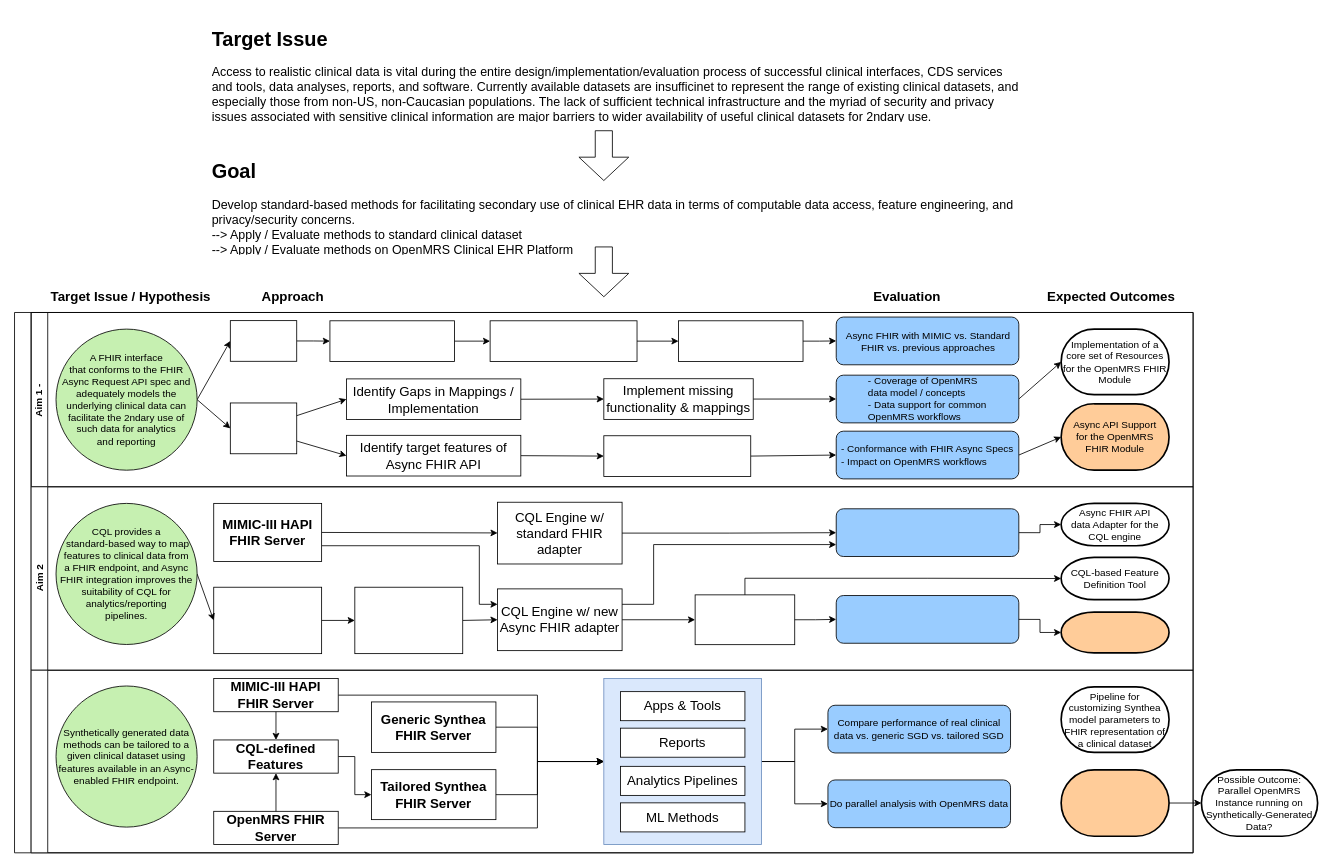
Image size: 1333x867. Some labels were removed from this diagram. The shapes that lost their labels are listed below. From the top down, each one's box as (x1, y1, x2, y2) in pixels, then its label:
(229, 320, 297, 361): MIMIC-III Dataset
(329, 320, 454, 361): Translate to FHIR & load to HAPI Server
(489, 320, 637, 361): Access MIMIC data using FHIR Async API
(678, 320, 803, 361): Test use in Analytics/Reporting
(229, 402, 297, 454): OpenMRS FHIR Module
(603, 435, 751, 476): Implement support for identified features
(835, 508, 1019, 557): Evaluate performance of Async CQL vs. standard CQL on MIMIC data
(14, 312, 1193, 853): Proposal Outline
(213, 586, 322, 654): Characterize CQL Engine FHIR Data Adapter
(354, 586, 463, 654): Mirror Functionality w/ new Async FHIR adapter
(694, 594, 795, 645): Clinical Feature Definition using CQL
(835, 595, 1019, 643): Evaluate use of CQL Engine in Report generation & Analytics Pipelines
(1060, 611, 1169, 653): OpenMRS Data Analysis/Reporting Platform Pilot
(30, 669, 1193, 853): Aim 3
(1060, 769, 1169, 837): Tailored Synthetic Data Generation for OpenMRS Data Analysis/Reporting Platform
